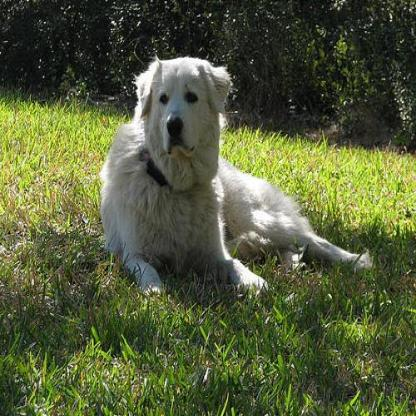Great_Pyrenees: (99, 53, 370, 296)
